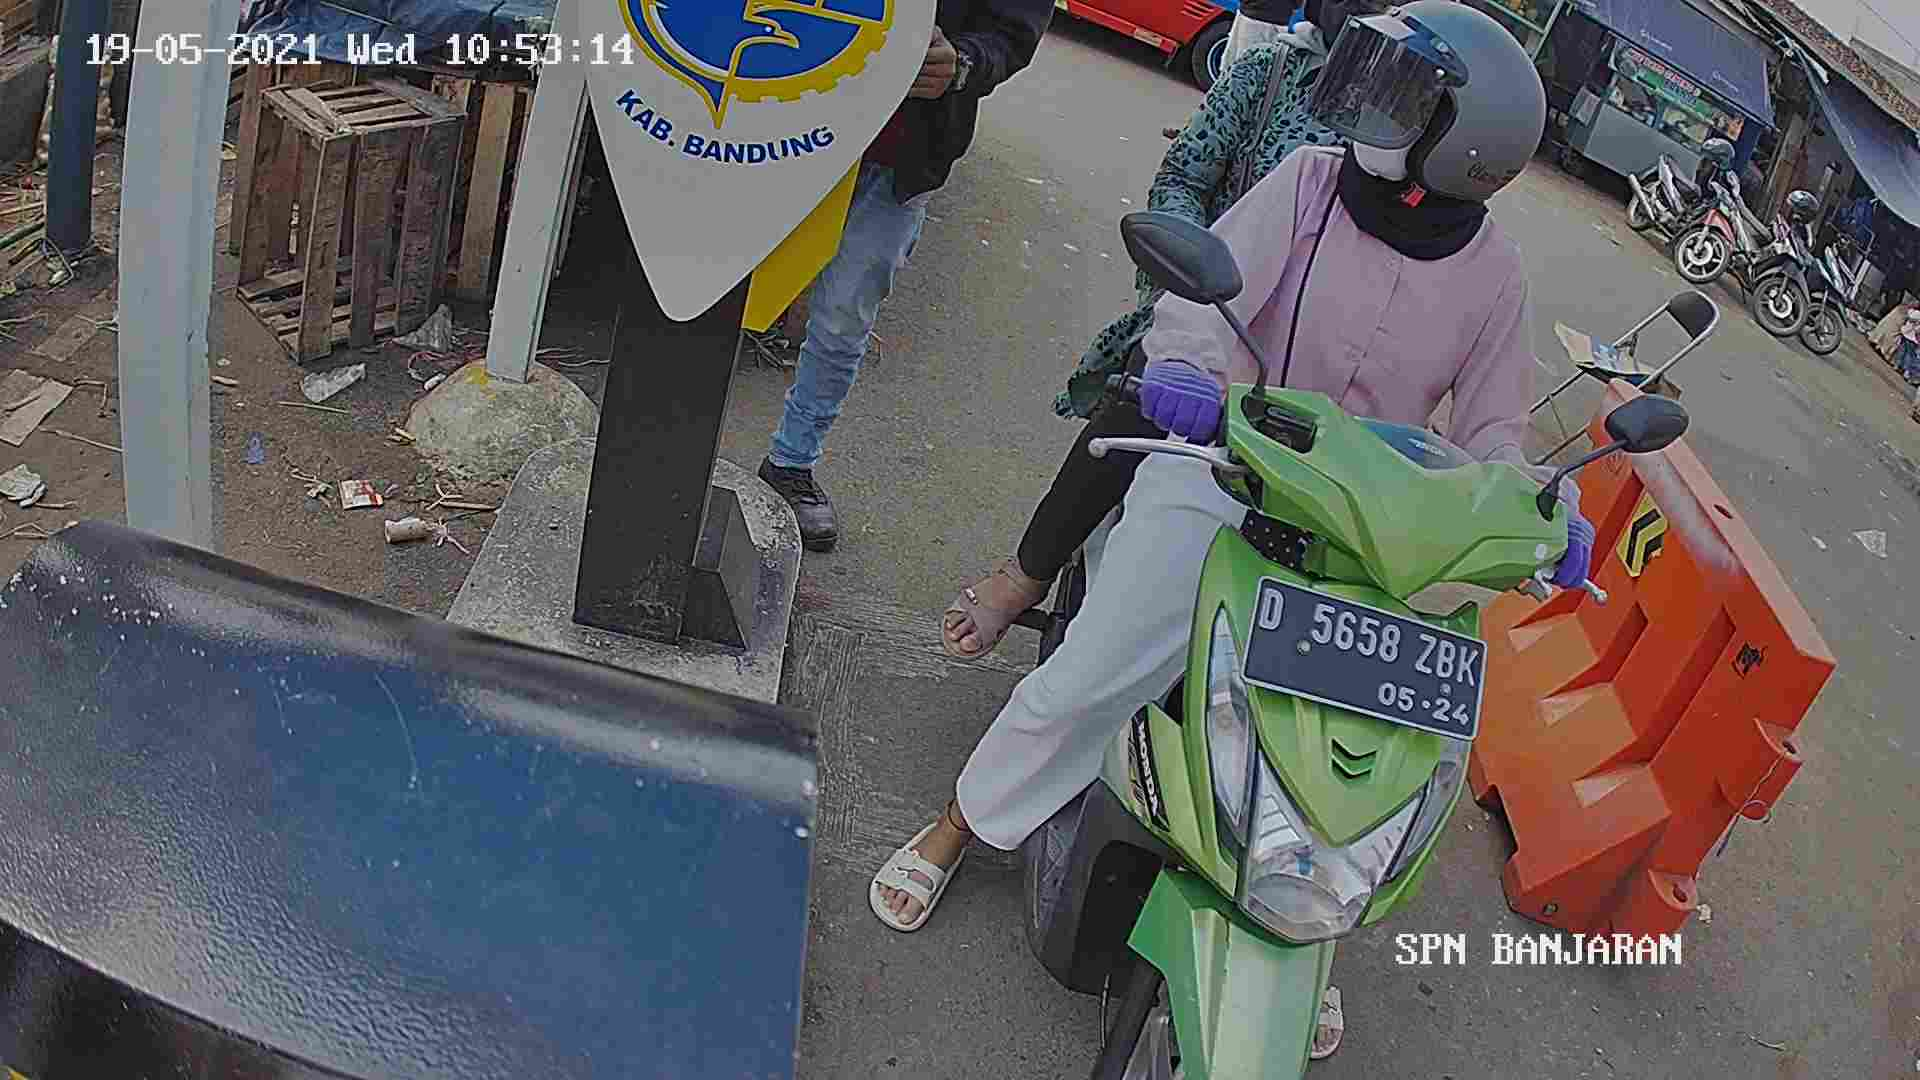motor: (1055, 334, 1586, 1080)
